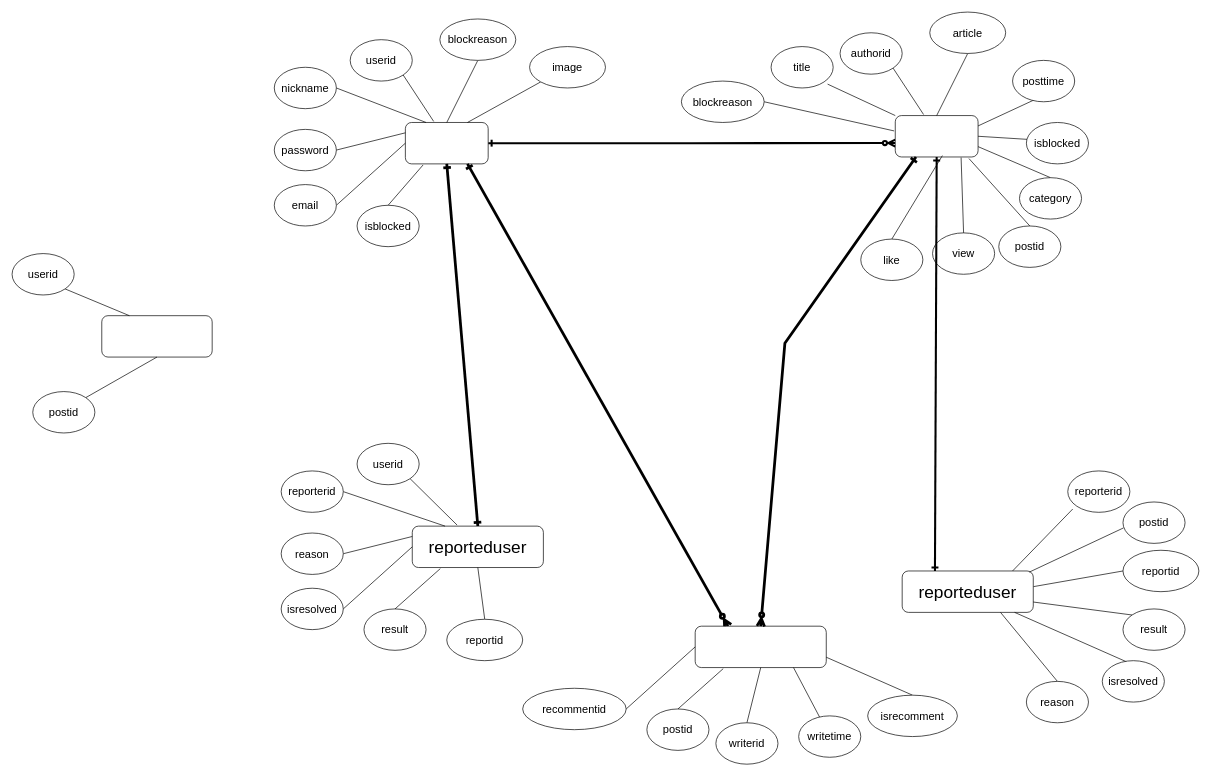
Some shapes in this 1211 by 776 pixel diagram are drawn without their labels. Each missing label, with the centre of its shape:
comment: point 760,646
liketable: point 156,336
post: point 936,136
user: point 446,143
